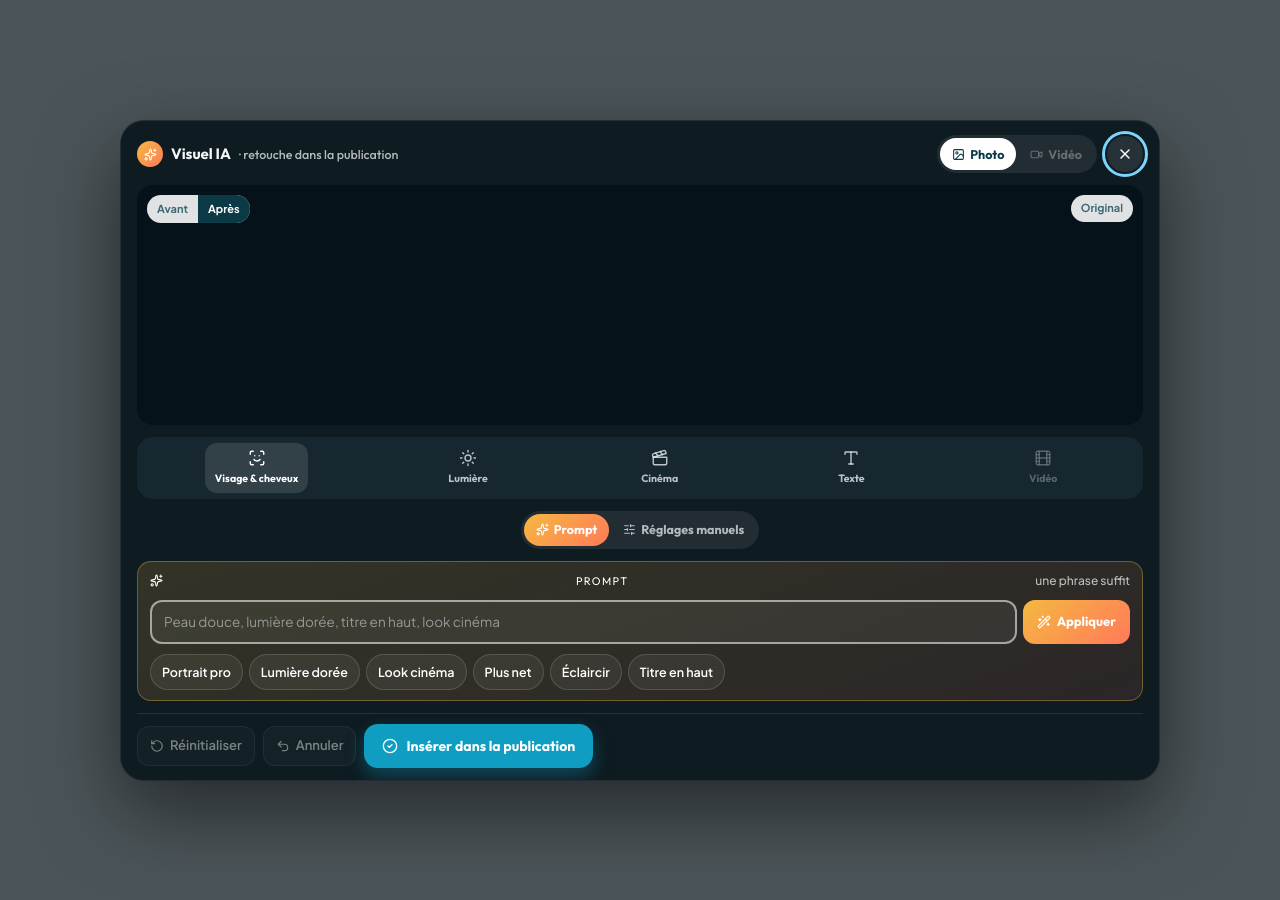
Test: studio « Visuel IA » (DEC-2026-061, B10) › réglages manuels : un curseur change le rendu, « Annuler » revient, « Réinitialiser » remet tout
Expected: the button "Réinitialiser" is disabled, top-left (137, 726), bottom-right (255, 766)
Expected: the button "Annuler" is disabled, top-left (263, 726), bottom-right (356, 766)
Click the button "Réglages manuels": (684, 529) top-left (611, 513), bottom-right (756, 545)
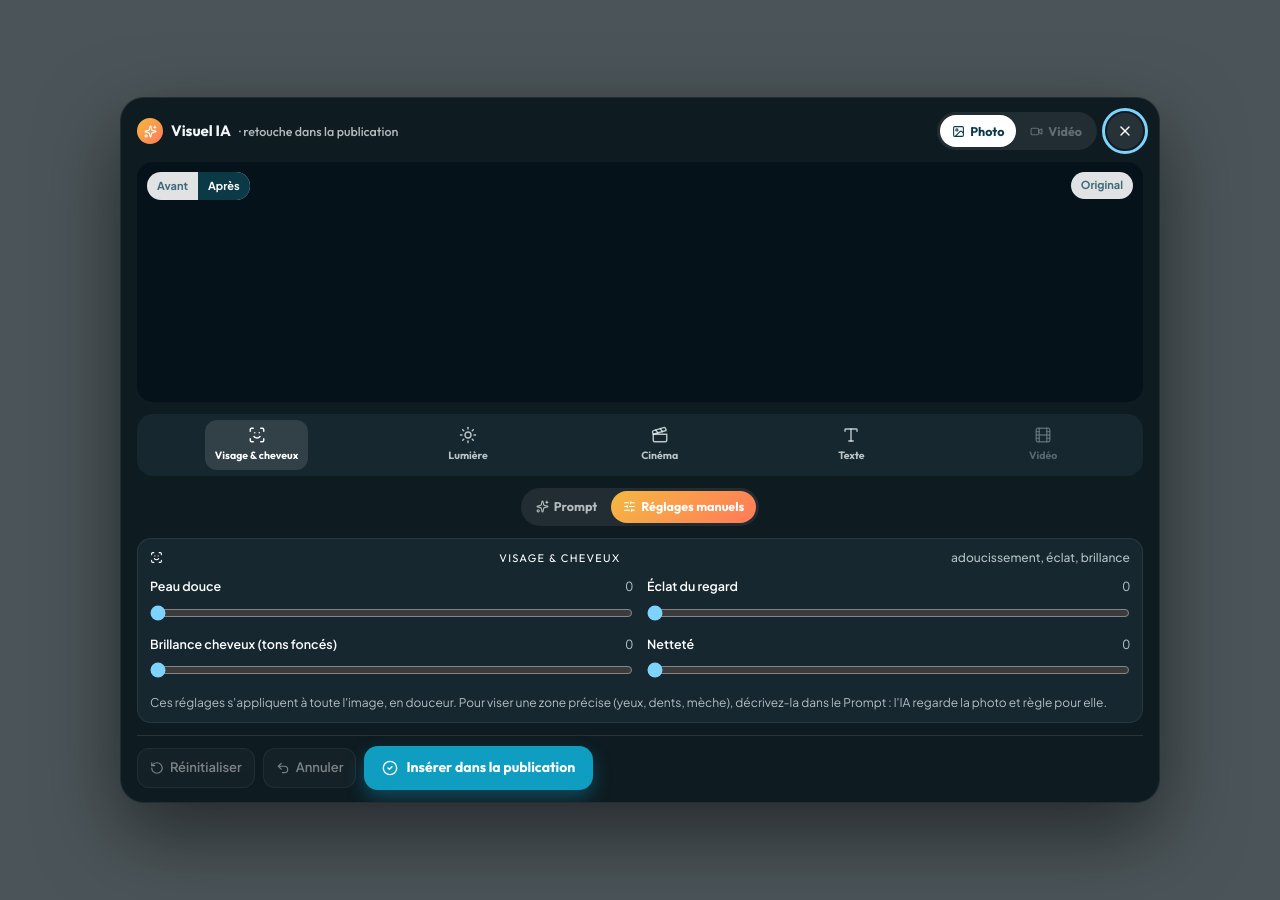
Set the slider labelled "Peau douce" to "40": (345, 613) top-left (150, 599), bottom-right (633, 627)
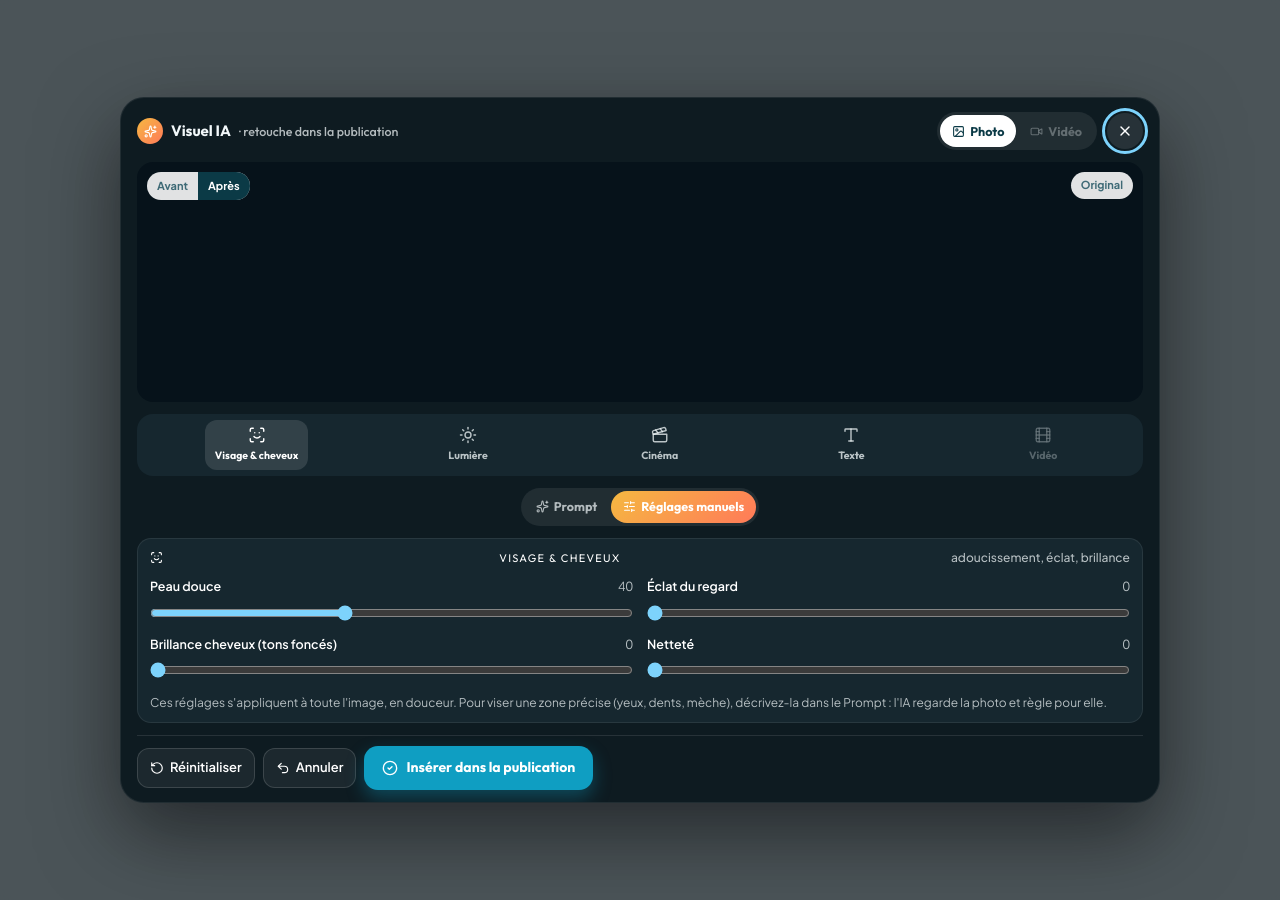
Expected: the element named "Avant ou après" is shown, top-left (147, 172), bottom-right (250, 200)
Now the button "Réinitialiser" is enabled, box top-left (137, 748), bottom-right (255, 788)
Now the button "Annuler" is enabled
Click the button "Annuler": (310, 768) top-left (263, 748), bottom-right (356, 788)
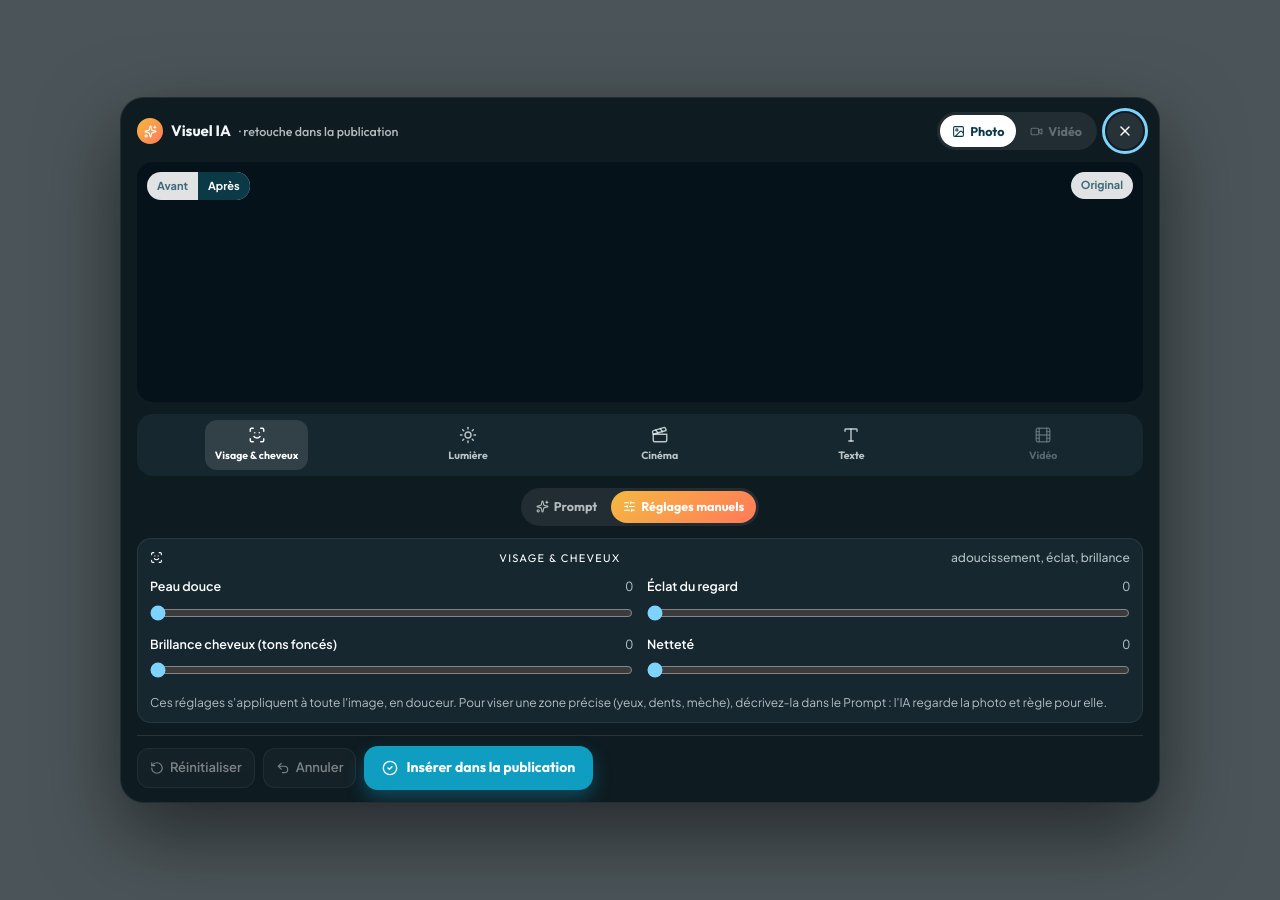
Now the slider labelled "Peau douce" holds "0", box top-left (150, 599), bottom-right (633, 627)
Now the button "Réinitialiser" is disabled, box top-left (137, 748), bottom-right (255, 788)
Set the slider labelled "Netteté" to "25": (772, 670) top-left (647, 656), bottom-right (1130, 684)
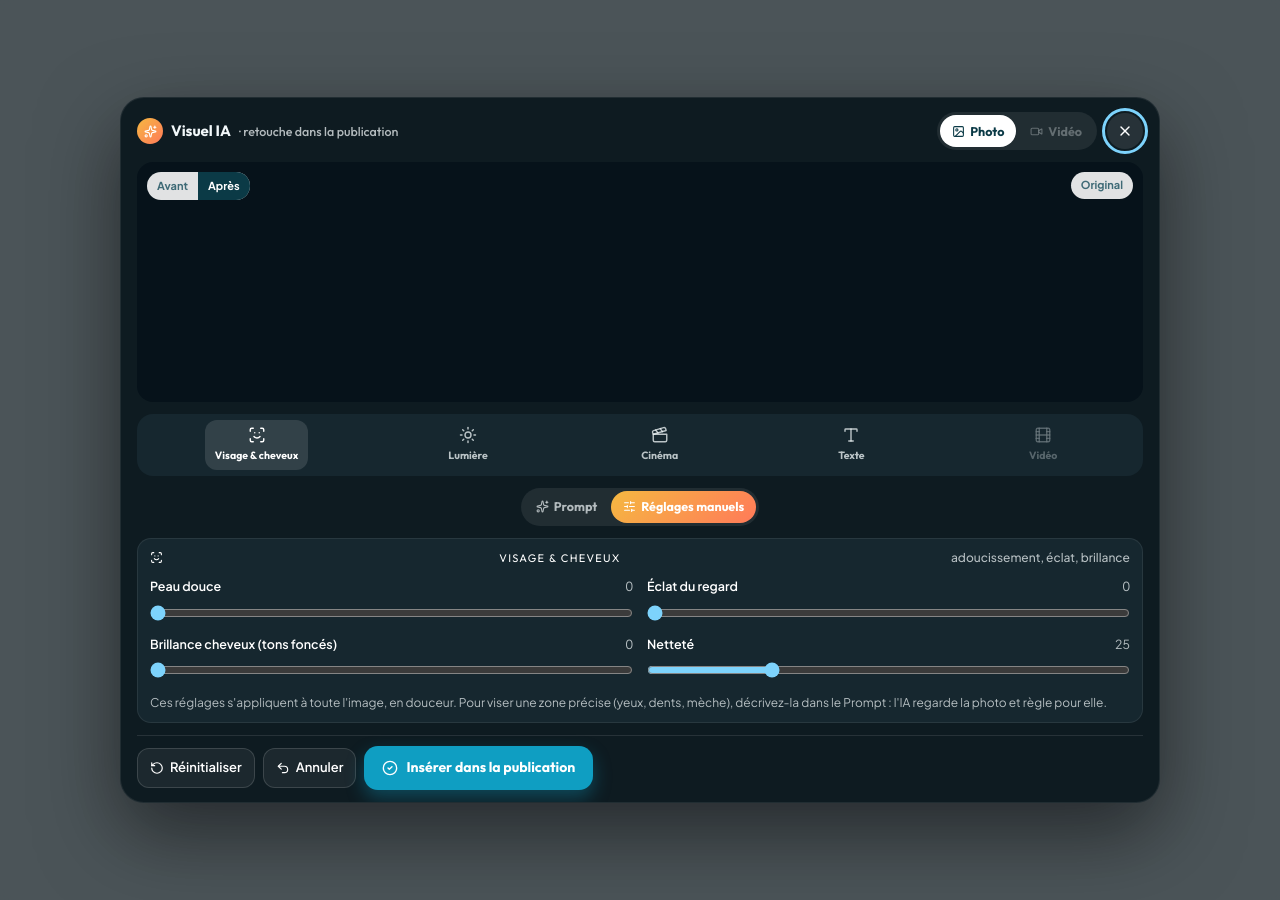
Set the slider labelled "Éclat du regard" to "15": (725, 613) top-left (647, 599), bottom-right (1130, 627)
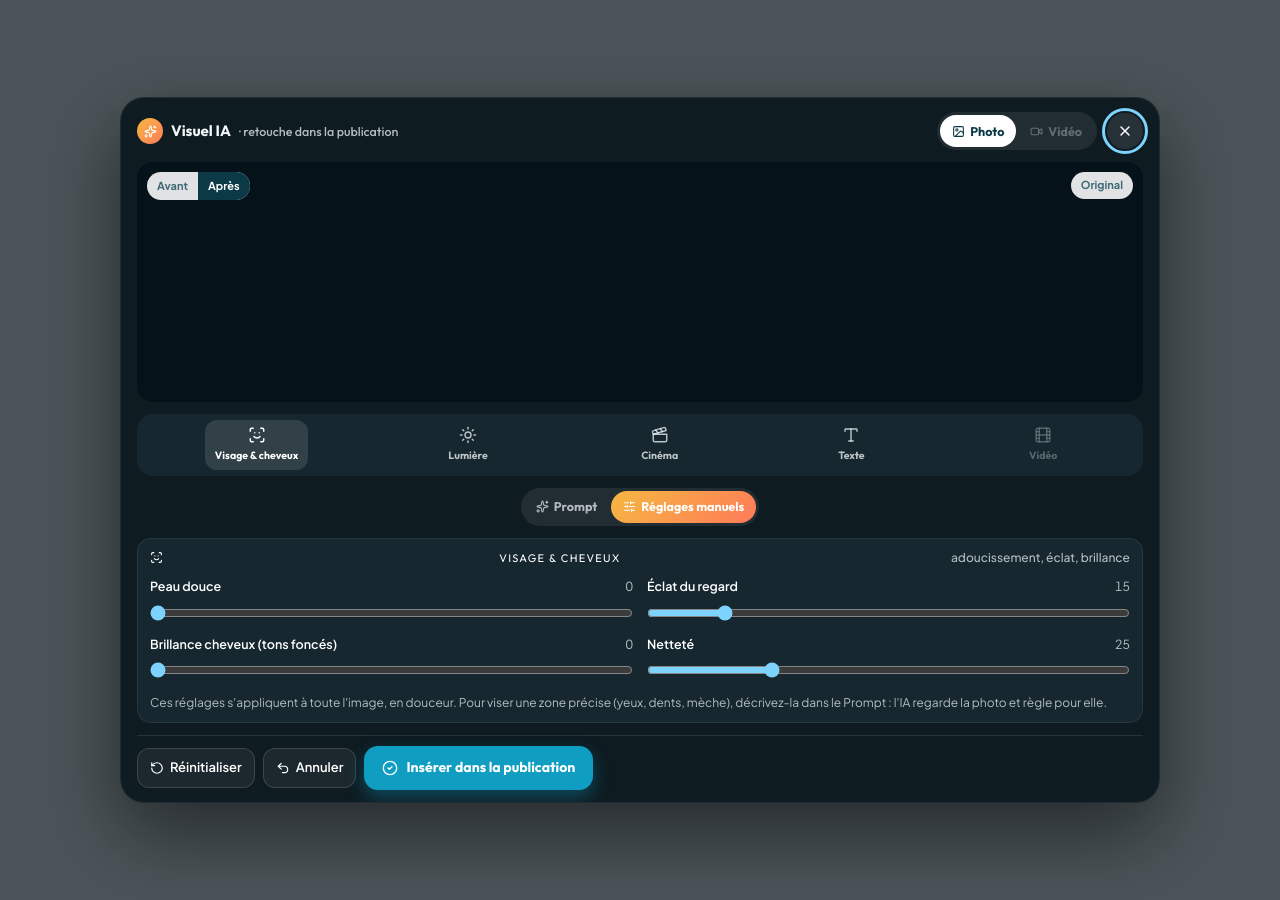
Click the button "Réinitialiser": (196, 768) top-left (137, 748), bottom-right (255, 788)
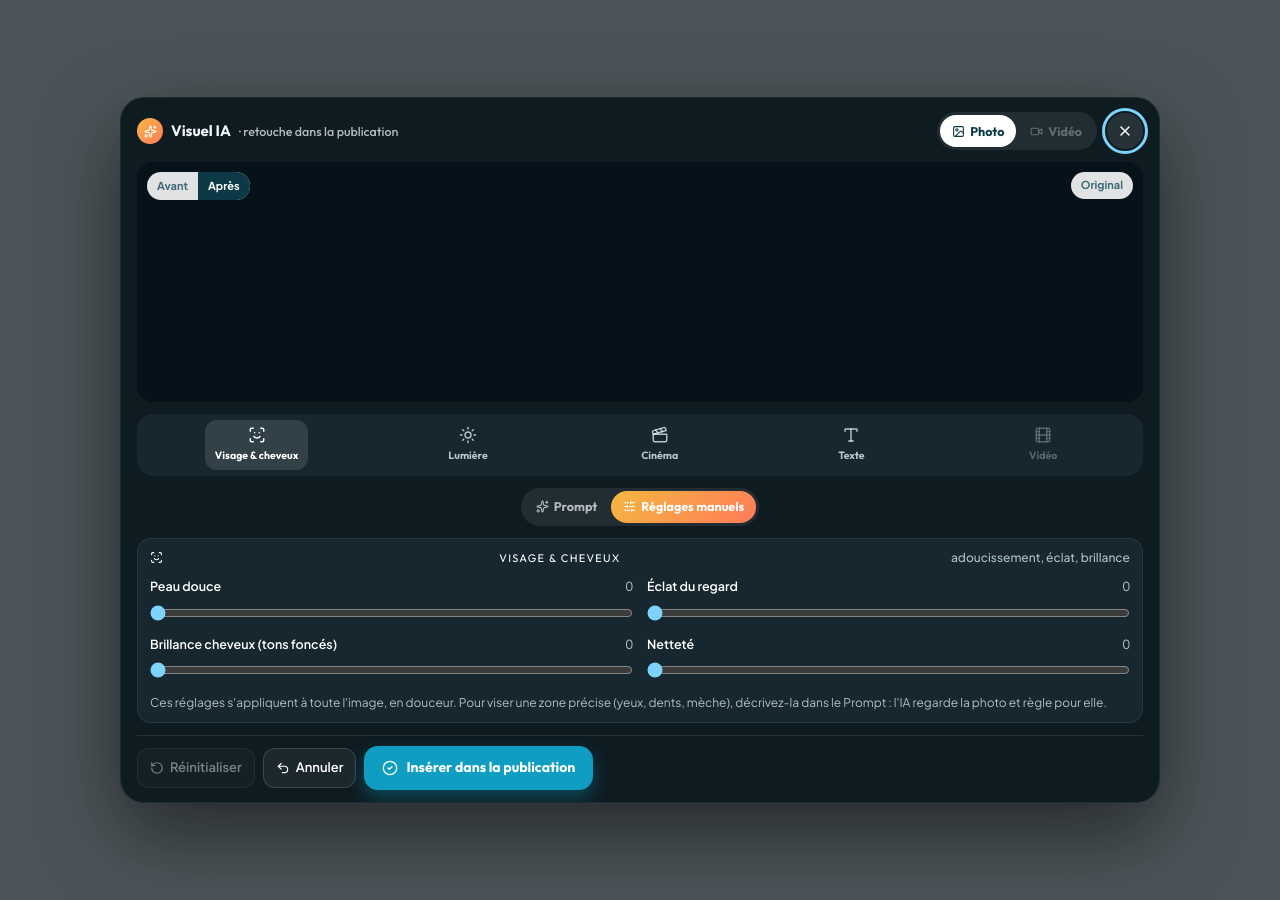
Now the button "Annuler" is enabled, box top-left (263, 748), bottom-right (356, 788)
Now the slider labelled "Netteté" holds "0", box top-left (647, 656), bottom-right (1130, 684)
Now the slider labelled "Éclat du regard" holds "0", box top-left (647, 599), bottom-right (1130, 627)
